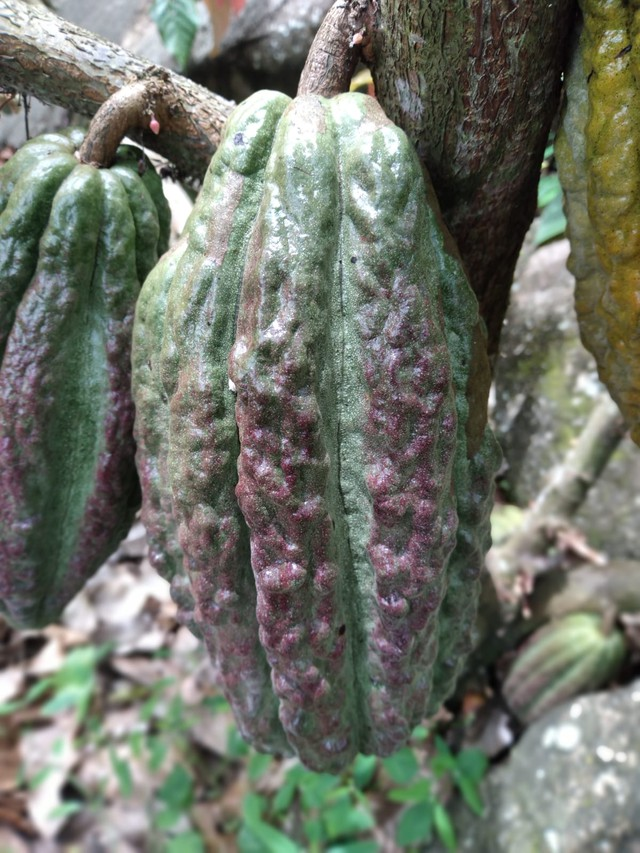Health: (93, 68, 525, 800)
